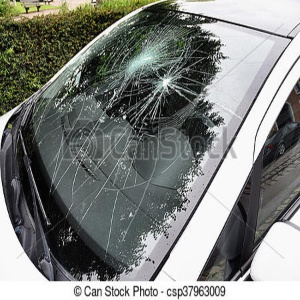front_windshield_glass: (67, 33, 243, 121)
